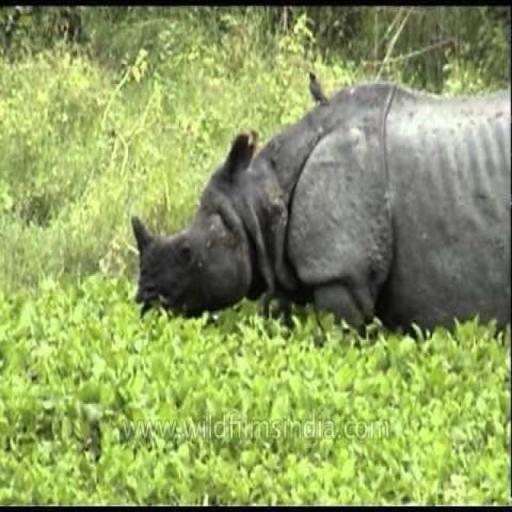Rhino: (130, 74, 511, 344)
